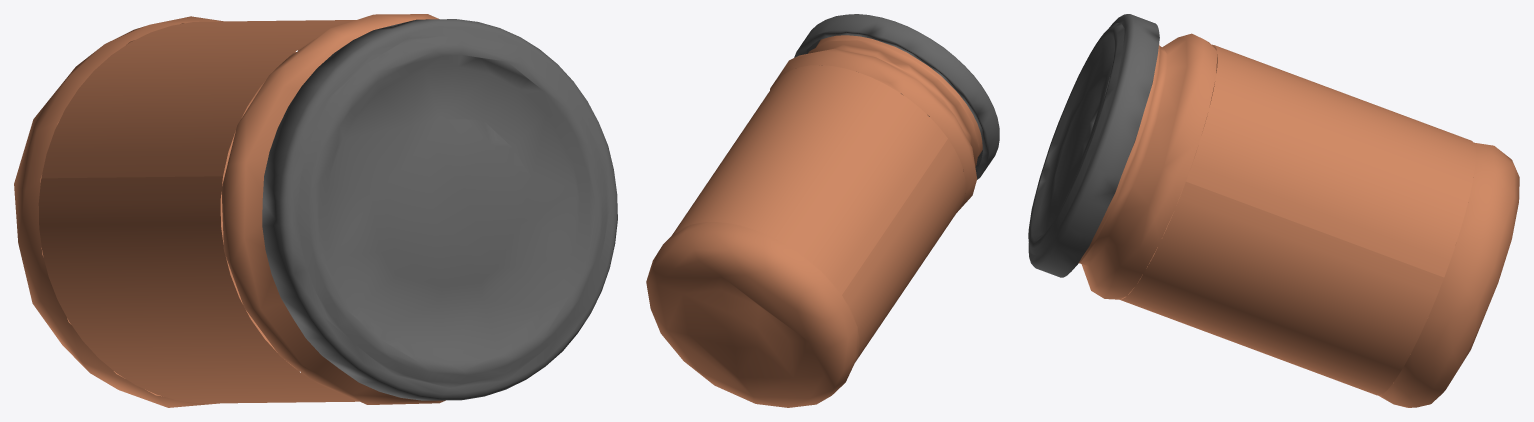
Rendered from ref_beanpaste.glb.
3 renders of one model, left to right at view 1: azimuth 30°, elevation 25°; view 2: azimuth 150°, elevation 25°; view 3: azimuth 270°, elevation 25°, orthographic. The views are drawn at different scales.
Visible parts, largest first — view 1: ref_beanpaste_part0, ref_beanpaste_part1; view 2: ref_beanpaste_part1, ref_beanpaste_part0; view 3: ref_beanpaste_part1, ref_beanpaste_part0.
Boxes of the visible parts, box(x1,y1,x2,y2) form: ref_beanpaste_part0: box(262, 19, 617, 400); ref_beanpaste_part1: box(14, 14, 445, 407); ref_beanpaste_part1: box(646, 35, 982, 407); ref_beanpaste_part0: box(794, 14, 999, 179); ref_beanpaste_part1: box(1078, 33, 1519, 407); ref_beanpaste_part0: box(1028, 14, 1159, 277).
Size of the model in its own units: 0.5719 by 0.827 by 1.
